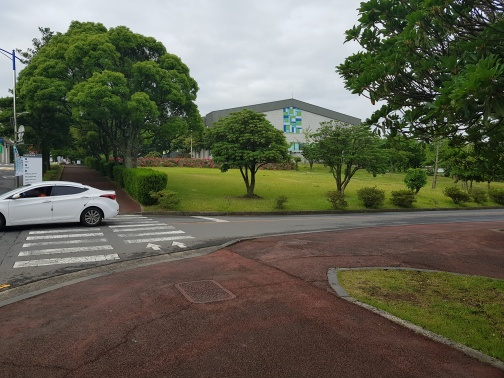Gym: (201, 97, 363, 157), (282, 101, 304, 135)
